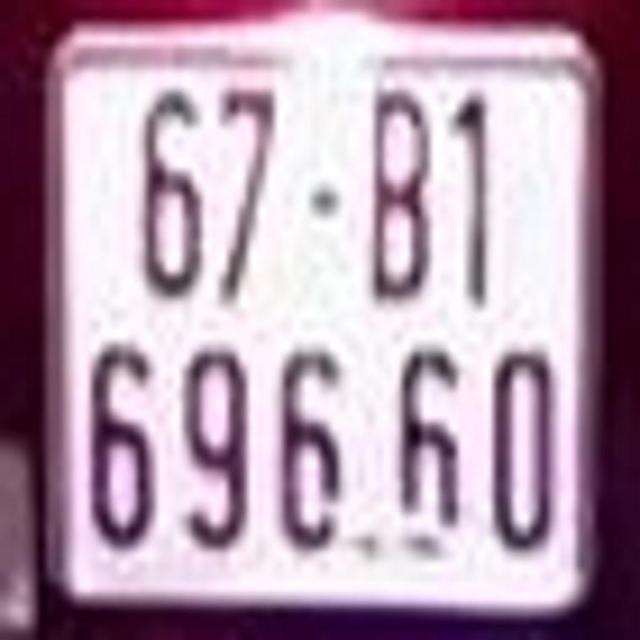0: (492, 352, 551, 550)
1: (453, 91, 494, 303)
6: (89, 348, 154, 548), (399, 346, 461, 553), (278, 348, 340, 551), (140, 90, 200, 288)
7: (212, 92, 275, 306)
9: (178, 344, 249, 542)
B: (370, 91, 427, 296)
